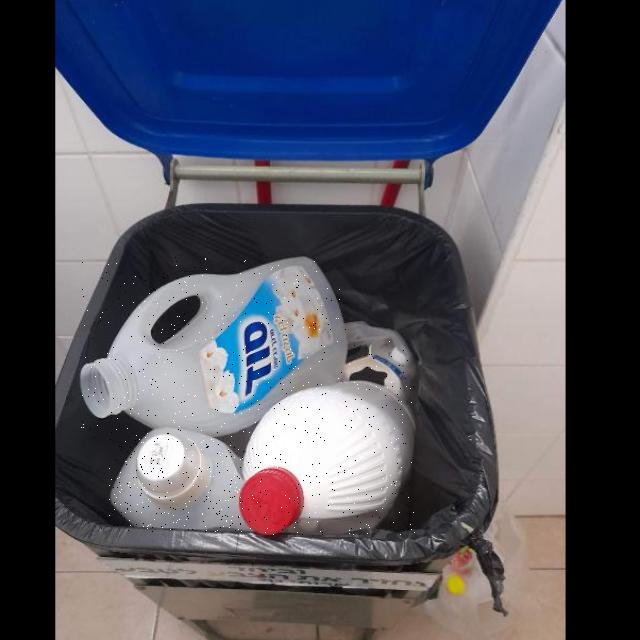paper: (342, 338, 410, 405)
plastic: (80, 257, 347, 438), (239, 381, 415, 536), (110, 428, 243, 532)
